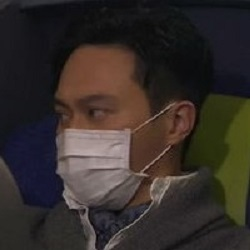mask: (46, 123, 149, 210)
